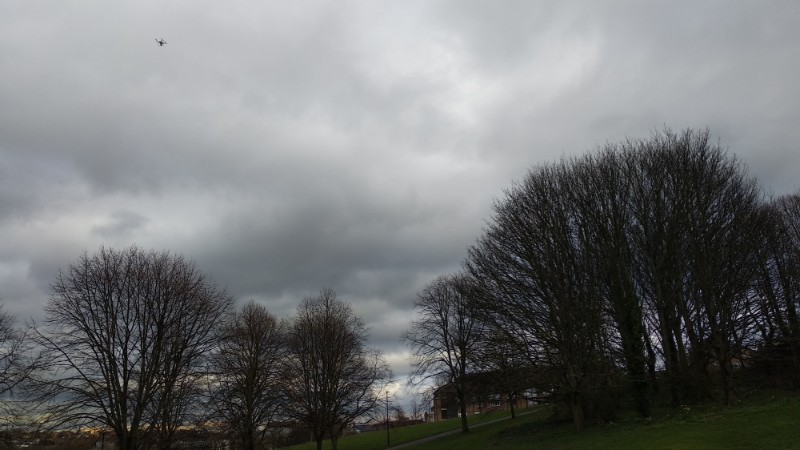drone: (156, 37, 169, 47)
